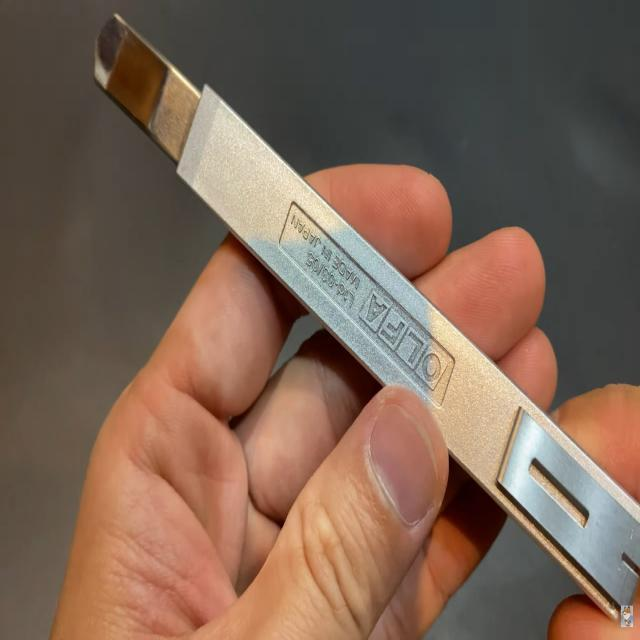cutter: (46, 0, 640, 597)
